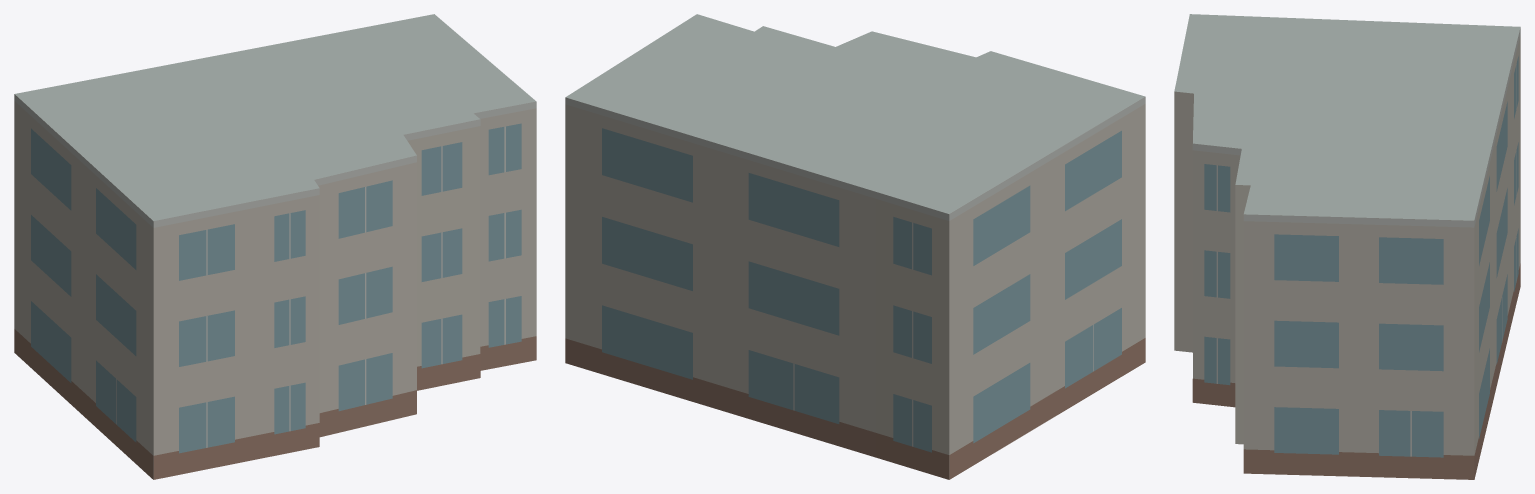
Rendered from survey-upis-32625624.glb.
3 renders of one model, left to right at view 1: azimuth 30°, elevation 25°; view 2: azimuth 150°, elevation 25°; view 3: azimuth 270°, elevation 25°, orthographic. The views are drawn at different scales.
Parts seen in each view (by area): view 1: survey-upis-32625624.tmp; view 2: survey-upis-32625624.tmp; view 3: survey-upis-32625624.tmp.
Boxes of the visible parts, bbox=[...] form: survey-upis-32625624.tmp: bbox=[14, 14, 536, 479]; survey-upis-32625624.tmp: bbox=[565, 14, 1145, 479]; survey-upis-32625624.tmp: bbox=[1174, 14, 1520, 479].
Bounding box in the file's own units: 15.92 × 9.3 × 11.28.
